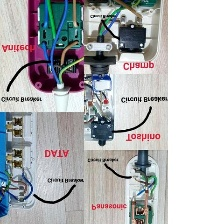three_eye_plug: (23, 0, 83, 109), (83, 0, 166, 73), (0, 111, 39, 214), (122, 152, 161, 223), (83, 72, 116, 146)
